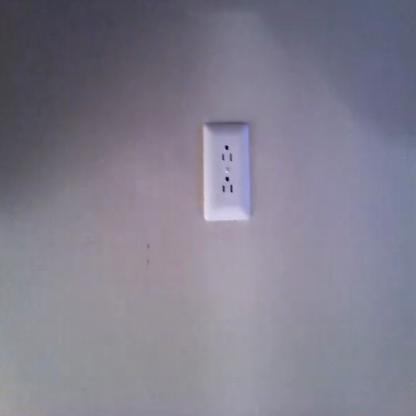OUTLET: (202, 123, 249, 222)
